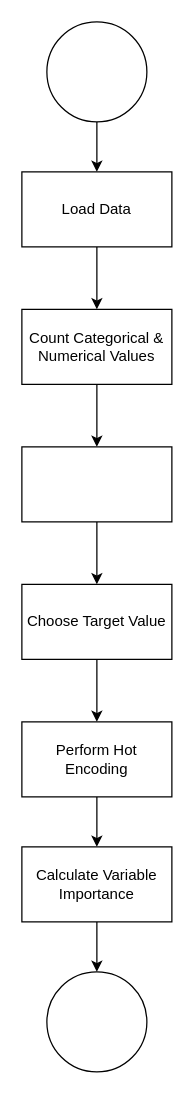
The diagram is 194 pixels wide and 1094 high, and some of its shapes have lost their labels. The box of each missing label's shape, as (x1, y1, x2, y2) in pixels:
End: (46, 971, 147, 1072)
Sampling Categorical Values: (21, 446, 172, 522)
Start: (46, 21, 147, 122)
